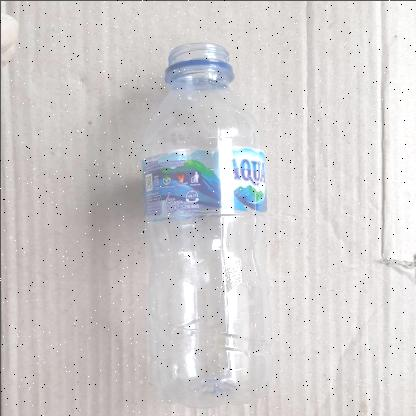Plastic Bottle: (140, 41, 266, 408)
